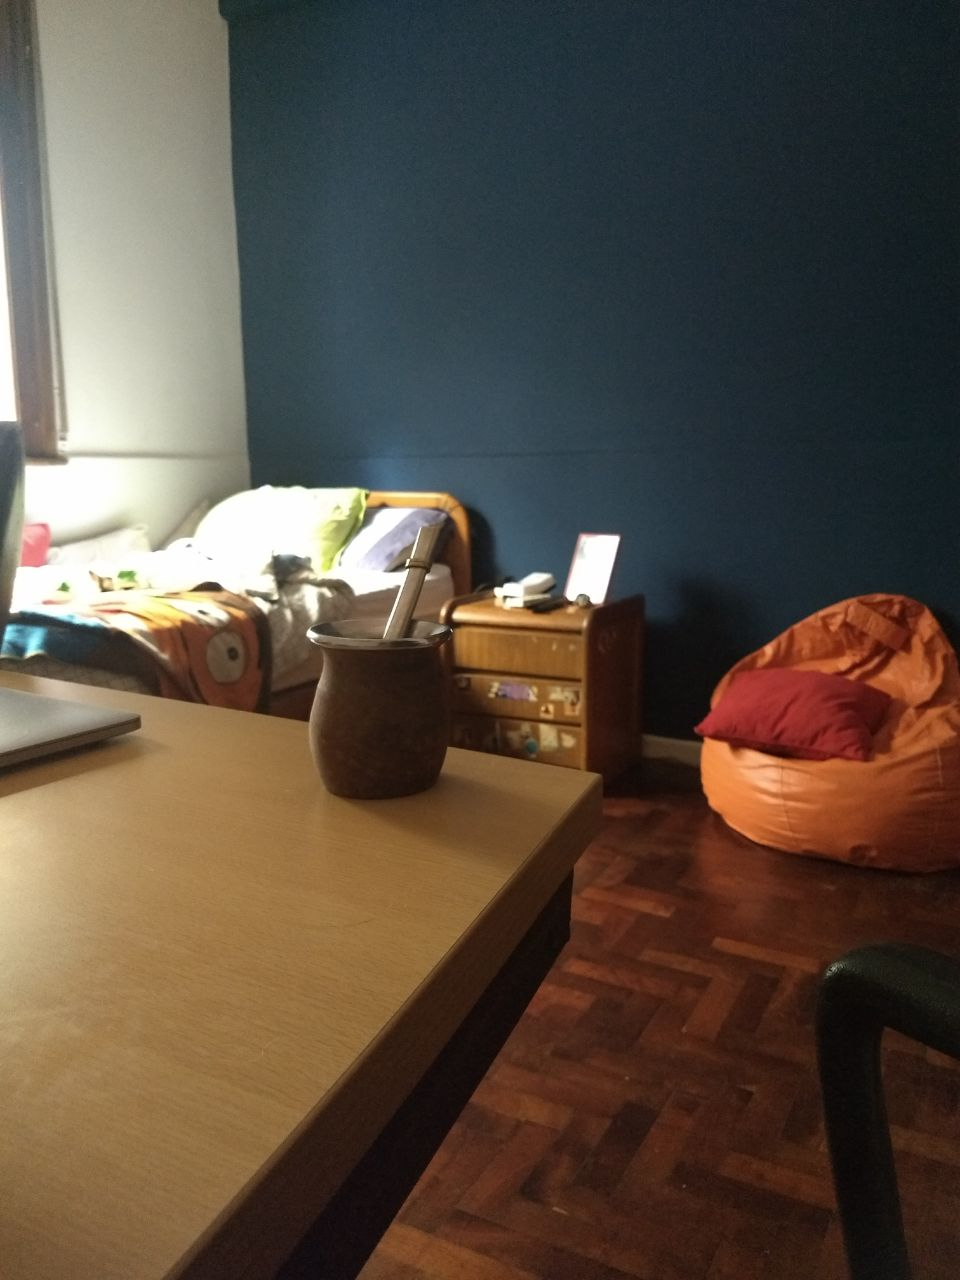madera: (299, 514, 458, 798)
mate: (301, 516, 460, 800)
